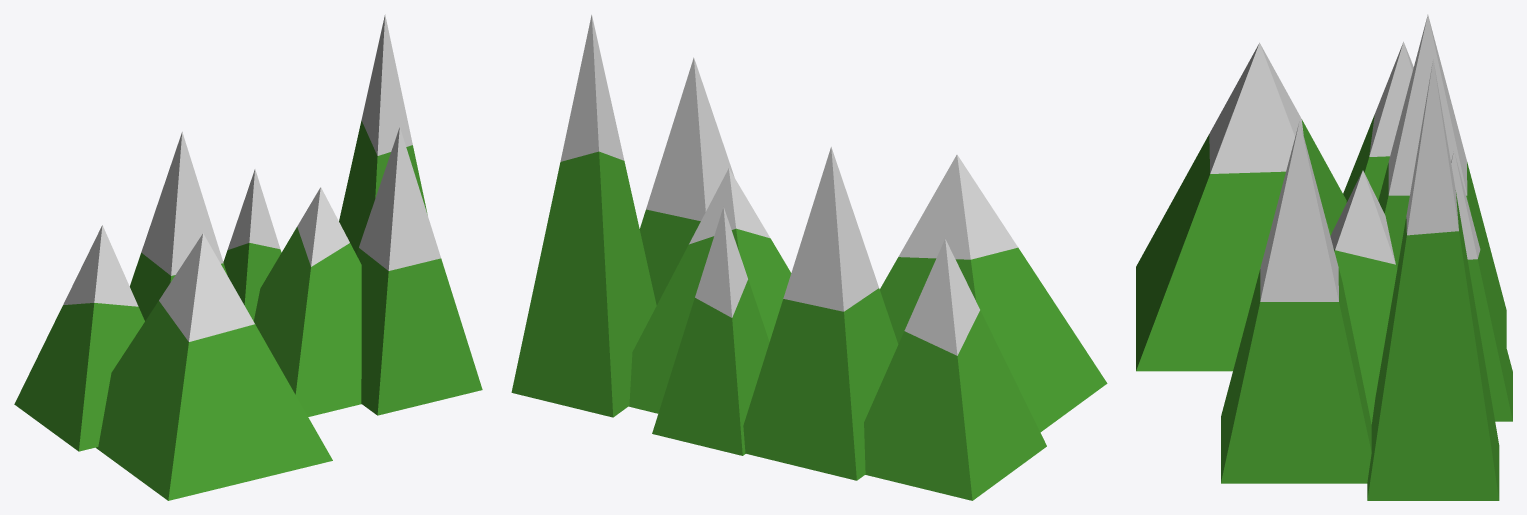
Rendered from Mountain3.fbx.
3 views of the same model, side by side, from view 1: azimuth 30°, elevation 25°; view 2: azimuth 150°, elevation 25°; view 3: azimuth 270°, elevation 25° (orthographic). The views are drawn at different scales.
Visible parts, largest first — view 1: pCube45, pCube43, pCube41, pCube44, pCube42, pCube39, pCube40; view 2: pCube42, pCube39, pCube44, pCube45, pCube40, pCube41, pCube43; view 3: pCube42, pCube43, pCube45, pCube41, pCube39, pCube40, pCube44.
Boxes of the visible parts, left/top/right/bottom form: pCube45: left=96, top=233, right=332, bottom=500; pCube43: left=356, top=127, right=482, bottom=415; pCube41: left=253, top=187, right=361, bottom=416; pCube44: left=14, top=225, right=144, bottom=451; pCube42: left=339, top=14, right=427, bottom=254; pCube39: left=130, top=132, right=227, bottom=320; pCube40: left=223, top=169, right=281, bottom=320; pCube42: left=511, top=14, right=656, bottom=417; pCube39: left=743, top=147, right=898, bottom=480; pCube44: left=864, top=239, right=1046, bottom=500; pCube45: left=879, top=154, right=1107, bottom=432; pCube40: left=652, top=207, right=769, bottom=455; pCube41: left=629, top=168, right=791, bottom=413; pCube43: left=639, top=57, right=734, bottom=305; pCube42: left=1367, top=59, right=1499, bottom=500; pCube43: left=1221, top=121, right=1371, bottom=483; pCube45: left=1136, top=43, right=1346, bottom=371; pCube41: left=1330, top=170, right=1400, bottom=423; pCube39: left=1378, top=14, right=1506, bottom=347; pCube40: left=1451, top=151, right=1512, bottom=421; pCube44: left=1343, top=42, right=1413, bottom=202.
Bounding box in the file's own units: 11.33 × 8.86 × 7.23.
